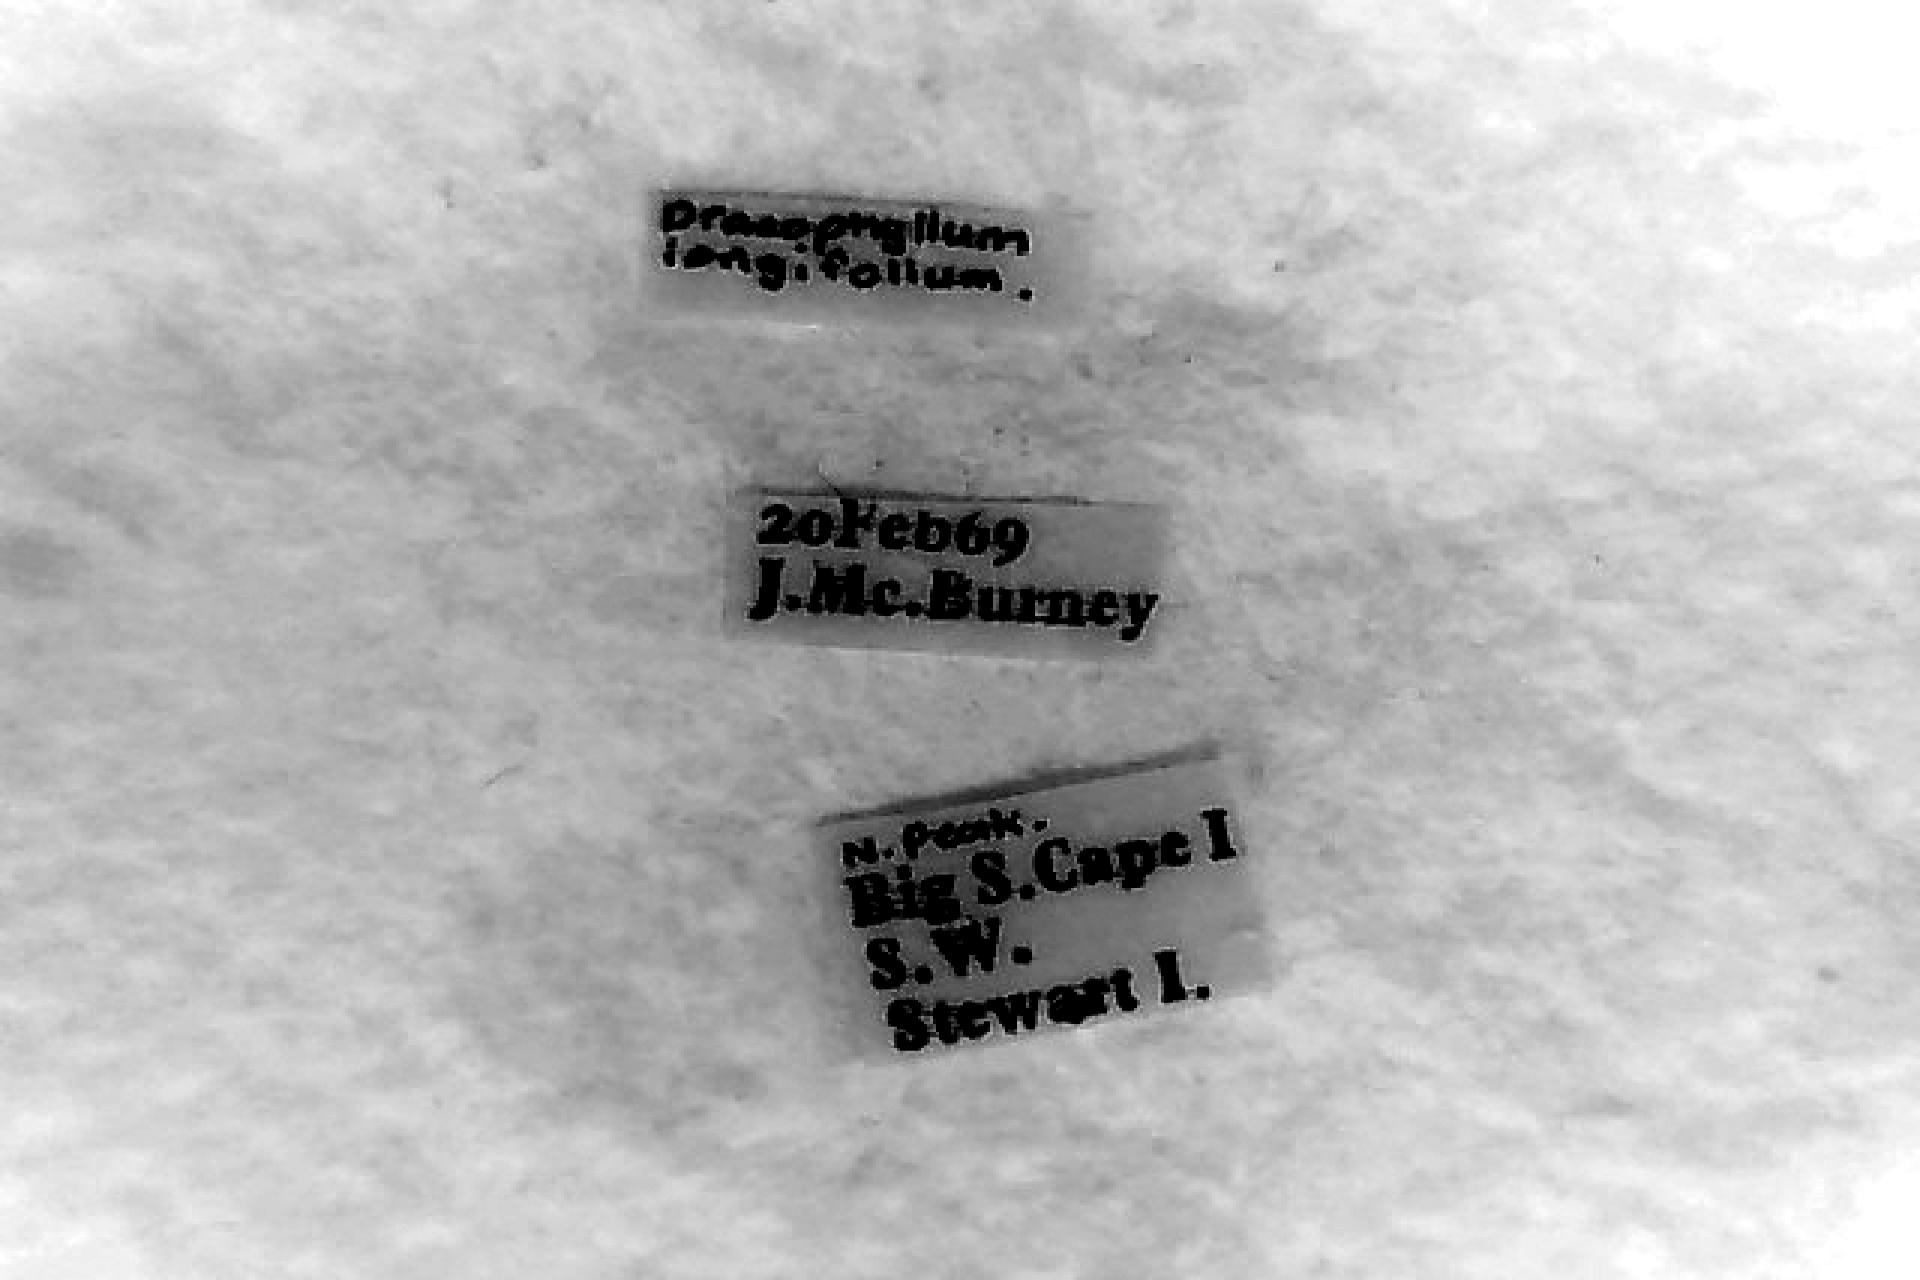hand_label: (654, 190, 1088, 325)
mixed_label: (825, 760, 1271, 1052)
typed_label: (731, 493, 1161, 652)
